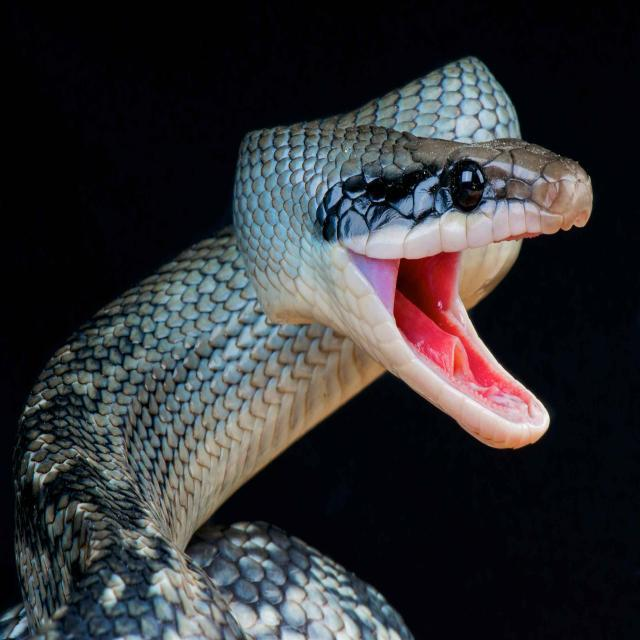Snake: (0, 26, 611, 640)
